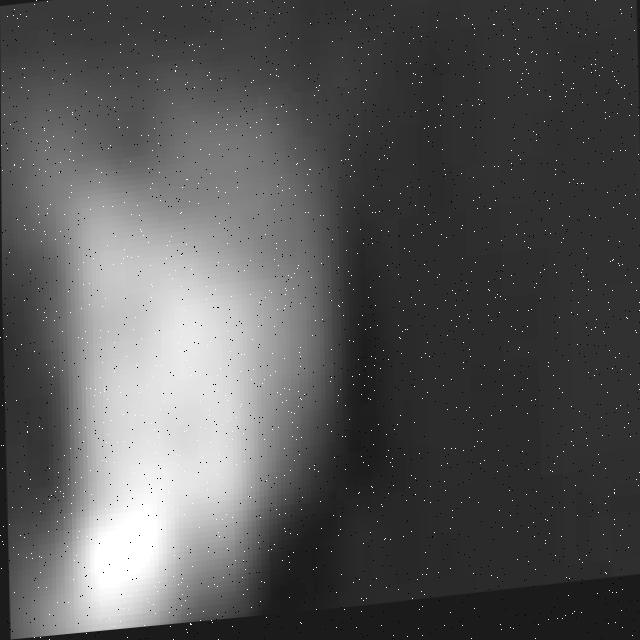person: (2, 83, 347, 640)
